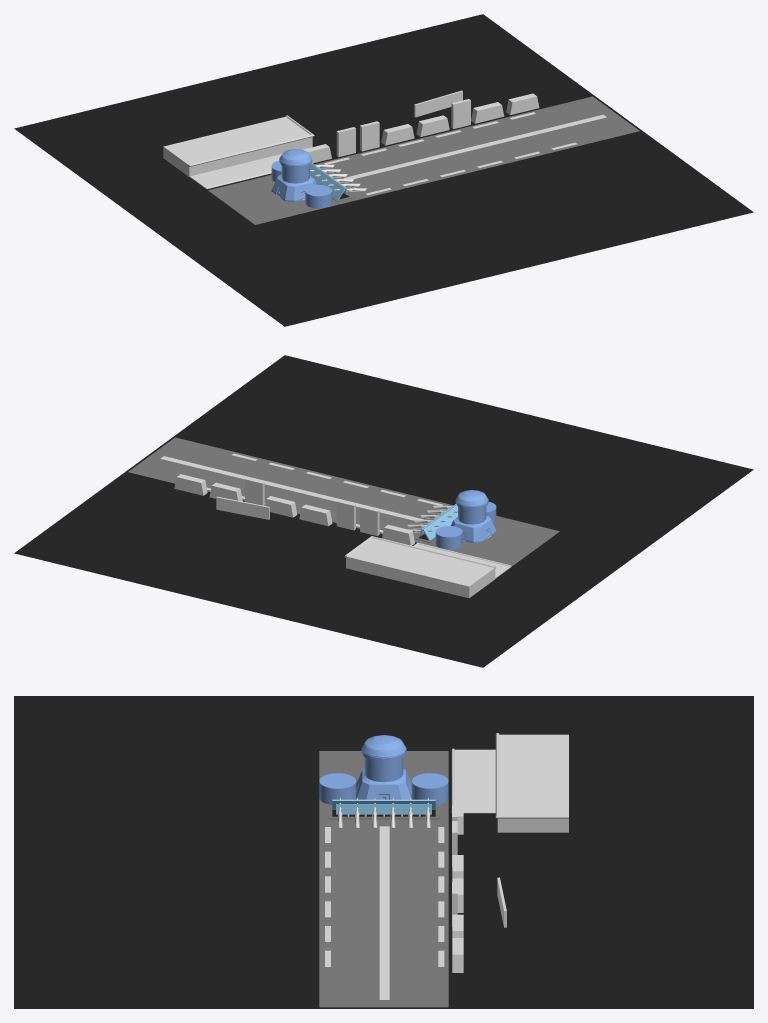
Rendered from Dummy_Field (3).fbx.
3 renders of one model, top to bottom at view 1: azimuth 30°, elevation 25°; view 2: azimuth 150°, elevation 25°; view 3: azimuth 270°, elevation 25°, orthographic. The views are drawn at different scales.
Visible parts, largest first — view 1: BackGround, Field_Plane, Box014, Object002, Box013, Plane001, Bg_Nexus_a, Box008, Box005, Box004, Box010; view 2: BackGround, Field_Plane, Box014, Object002, Plane001, Bg_Nexus_a, Box008, Box004, Box005; view 3: BackGround, Field_Plane, Box014, Object002, Box013, Bg_Nexus_a, Plane001, Object001, Bg_Barricade001, Line002, Bg_Barricade.
Part boxes in pixels (box(x1,y1,x2,y2)): BackGround: box(14, 14, 753, 326); Field_Plane: box(208, 96, 639, 224); Box014: box(163, 116, 312, 176); Object002: box(271, 149, 316, 202); Box013: box(189, 154, 281, 187); Plane001: box(343, 114, 606, 178); Bg_Nexus_a: box(271, 161, 332, 208); Box008: box(414, 90, 462, 117); Box005: box(360, 121, 379, 151); Box004: box(336, 127, 355, 157); Box010: box(451, 99, 470, 128); BackGround: box(14, 355, 753, 667); Field_Plane: box(128, 437, 559, 565); Box014: box(346, 538, 495, 598); Object002: box(451, 490, 496, 543); Plane001: box(160, 456, 423, 520); Bg_Nexus_a: box(435, 502, 496, 549); Box008: box(216, 496, 269, 519); Box004: box(360, 506, 379, 535); Box005: box(336, 500, 355, 530); BackGround: box(14, 696, 753, 1008); Field_Plane: box(319, 751, 448, 1007); Box014: box(497, 734, 568, 832); Object002: box(356, 735, 411, 799); Box013: box(455, 749, 495, 810); Bg_Nexus_a: box(319, 773, 448, 804); Plane001: box(379, 826, 389, 999); Object001: box(319, 805, 448, 821); Bg_Barricade001: box(336, 804, 431, 814); Line002: box(495, 733, 568, 818); Bg_Barricade: box(332, 799, 435, 809).
Size of the model in its own units: 4000 by 363 by 4000.
